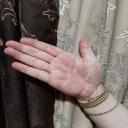OpenPalm: (4, 36, 104, 98)
